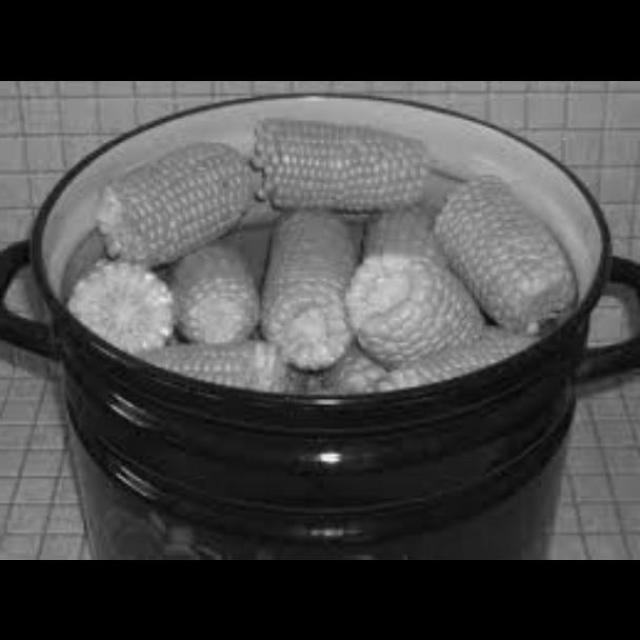cereal: (433, 170, 582, 337), (94, 133, 254, 267), (247, 109, 429, 215), (245, 202, 361, 362), (342, 245, 478, 366), (139, 324, 312, 402), (151, 220, 262, 340), (81, 246, 184, 350)
